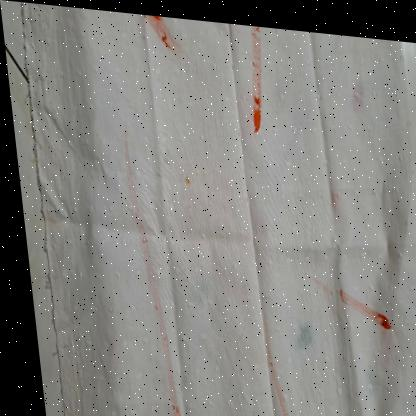spot: (118, 111, 175, 416), (297, 263, 392, 330), (255, 300, 282, 416), (135, 12, 195, 58), (250, 20, 265, 135), (290, 315, 311, 355), (176, 167, 189, 190), (327, 178, 339, 202)
